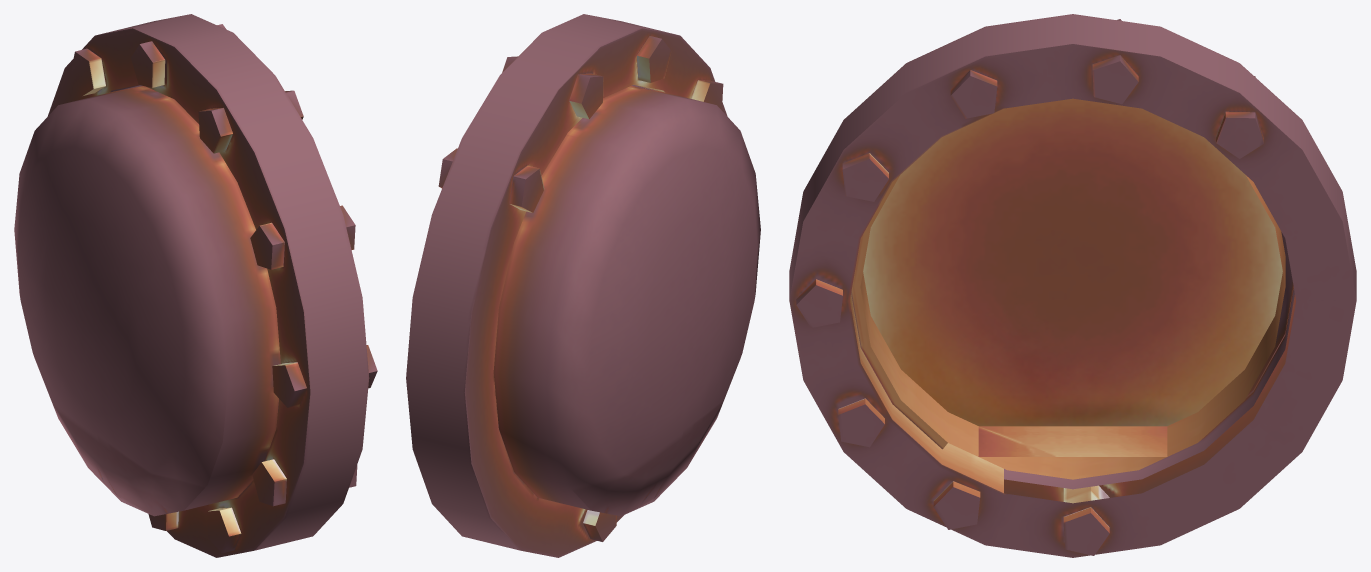
Rendered from openPipe_end 1.fbx.
3 views of the same model, side by side, from view 1: azimuth 30°, elevation 25°; view 2: azimuth 150°, elevation 25°; view 3: azimuth 270°, elevation 25° (orthographic). The views are drawn at different scales.
Parts seen in each view (by area): view 1: openPipe_end; view 2: openPipe_end; view 3: openPipe_end, openPipe_end_colFloor.
Boxes of the visible parts, box(x1,y1,x2,y2) form: openPipe_end: box(14, 14, 377, 557); openPipe_end: box(406, 14, 760, 557); openPipe_end: box(789, 14, 1356, 557); openPipe_end_colFloor: box(978, 426, 1167, 456).
Bounding box in the file's own units: 1.31 × 3.74 × 3.74.
Materials: 1 (1 with a texture image).
